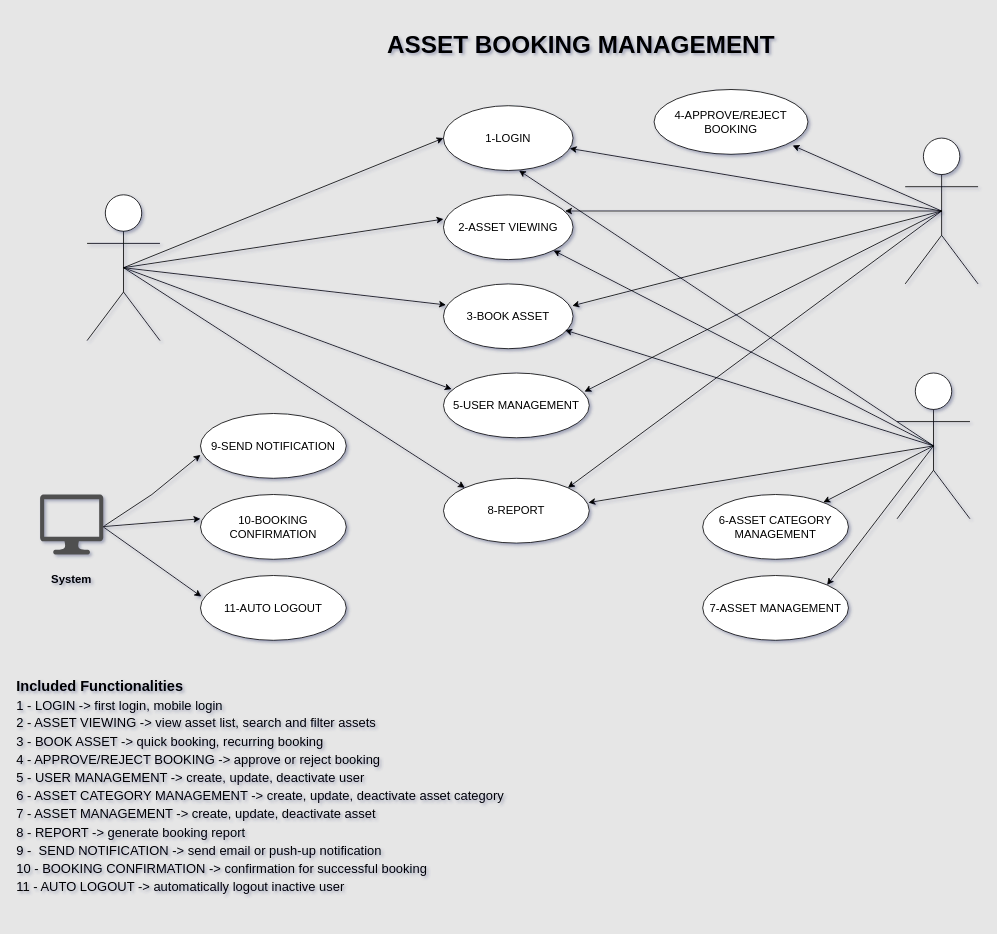
This 997x934 diagram has some shape labels left out. The shapes that lost their labels are listed below. From the top down, each one's box as (x1, y1, x2, y2) in pixels, then its label:
(904, 137, 978, 284): Manager
(86, 194, 160, 341): Employee
(896, 372, 970, 519): Admin
